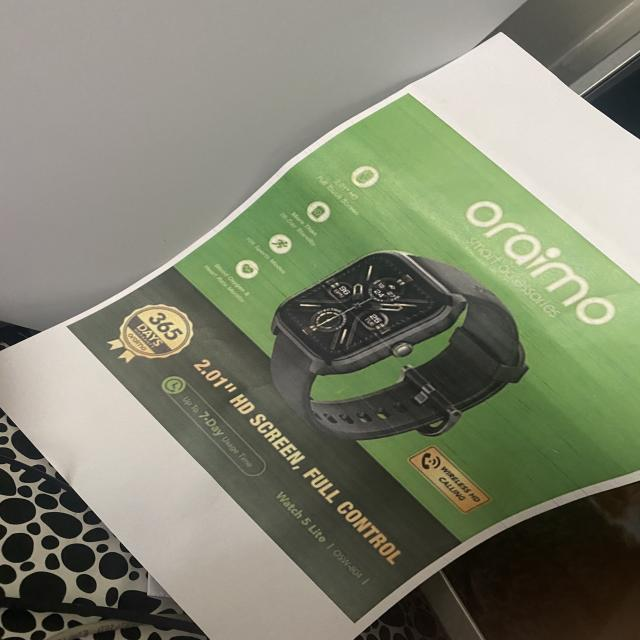Watch 5 Lite OSW-804: (269, 482, 375, 591)
